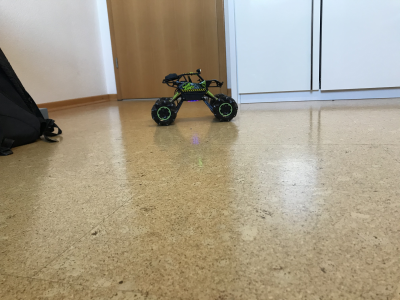remote control car: (148, 65, 240, 127)
